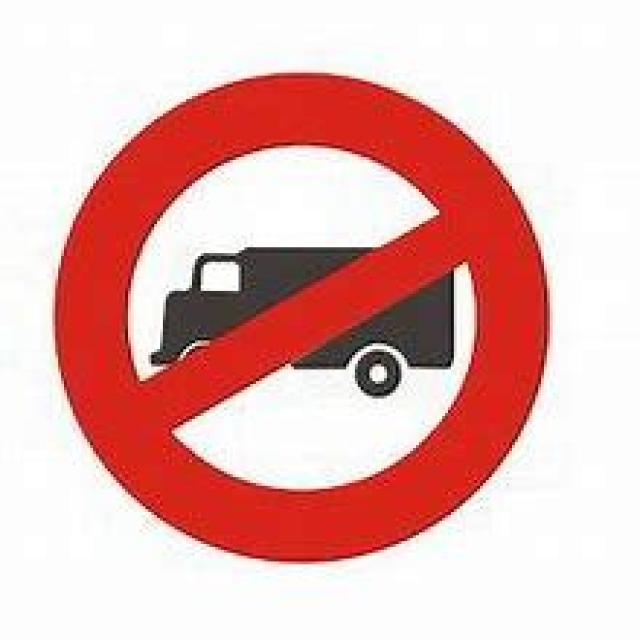TRUCK_PROHIBITED: (39, 61, 558, 571)
